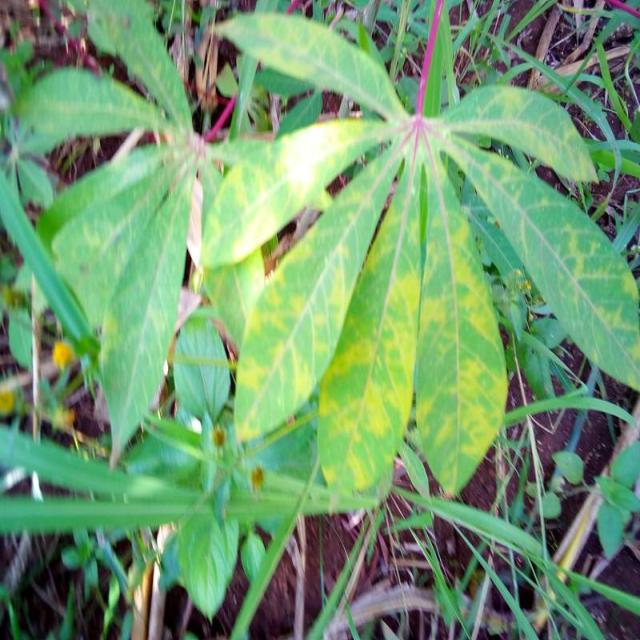cassava leaf: (201, 1, 639, 510), (20, 140, 198, 469)
